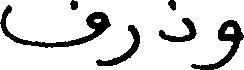X: (0, 0, 107, 69), (159, 0, 195, 69), (197, 15, 243, 69), (109, 17, 139, 69)
